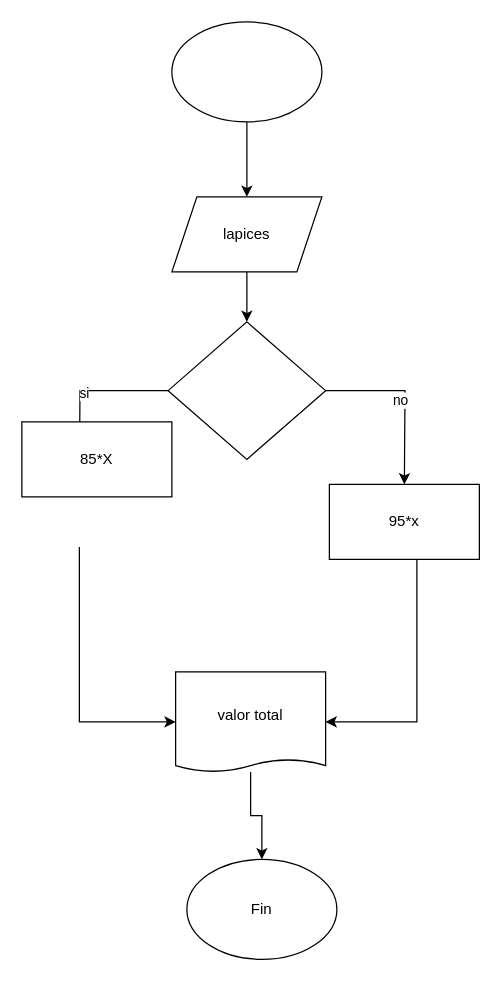
Image size: 501x981. Some labels were removed from this diagram. The shapes that lost their labels are listed below. From the top down, each one's box as (x1, y1, x2, y2) in pixels, then its label:
(171, 21, 322, 122): INICIO
(167, 321, 326, 459): X>1000
